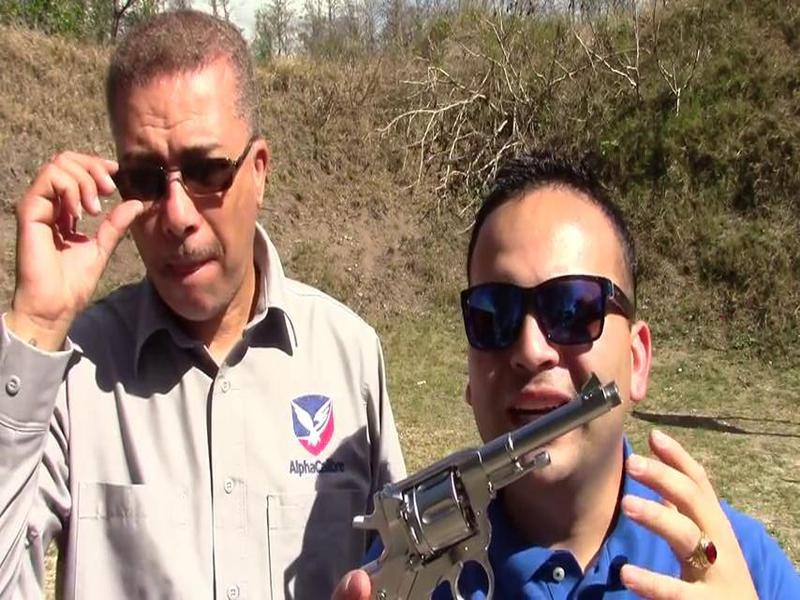Revolver: (337, 369, 650, 600)
